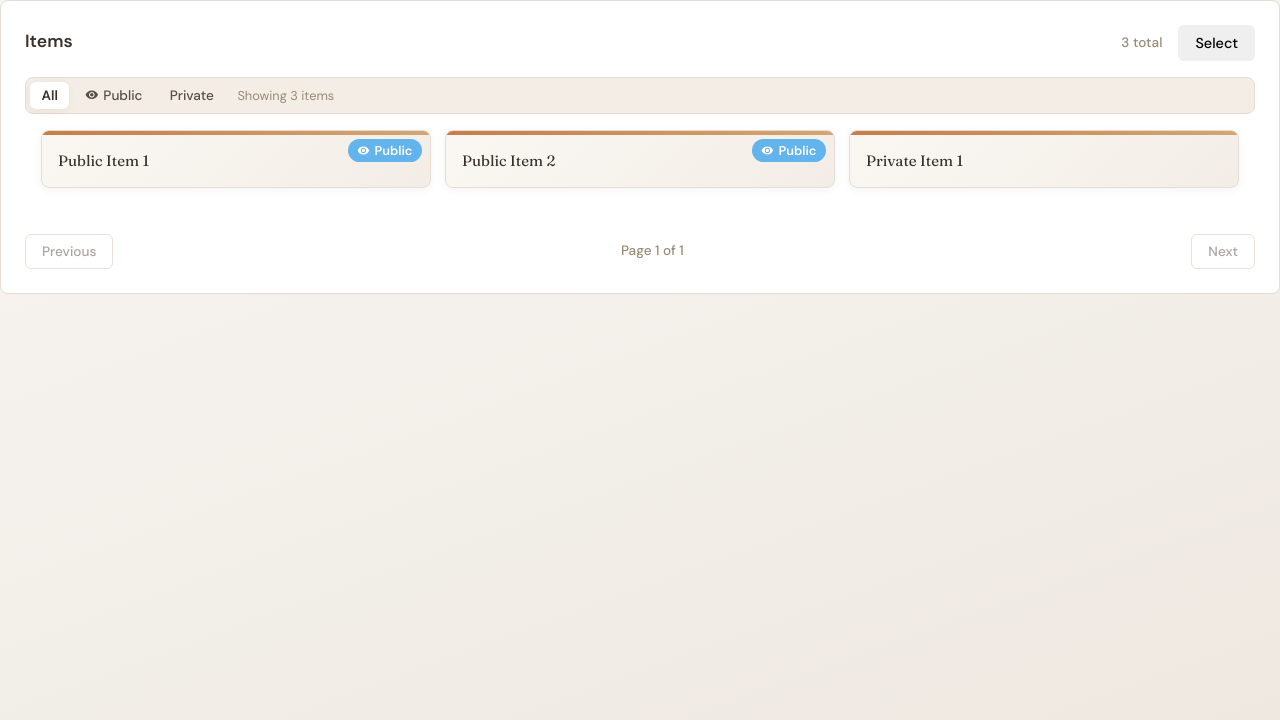
Test: ItemList › visibility filter › should filter to public items only when Public is selected
// Target the filter button specifically within the filter bar
Click the button with class "filter-btn" in the row of "Showing" at {"x": 114, "y": 95}, box [74,82,154,108]
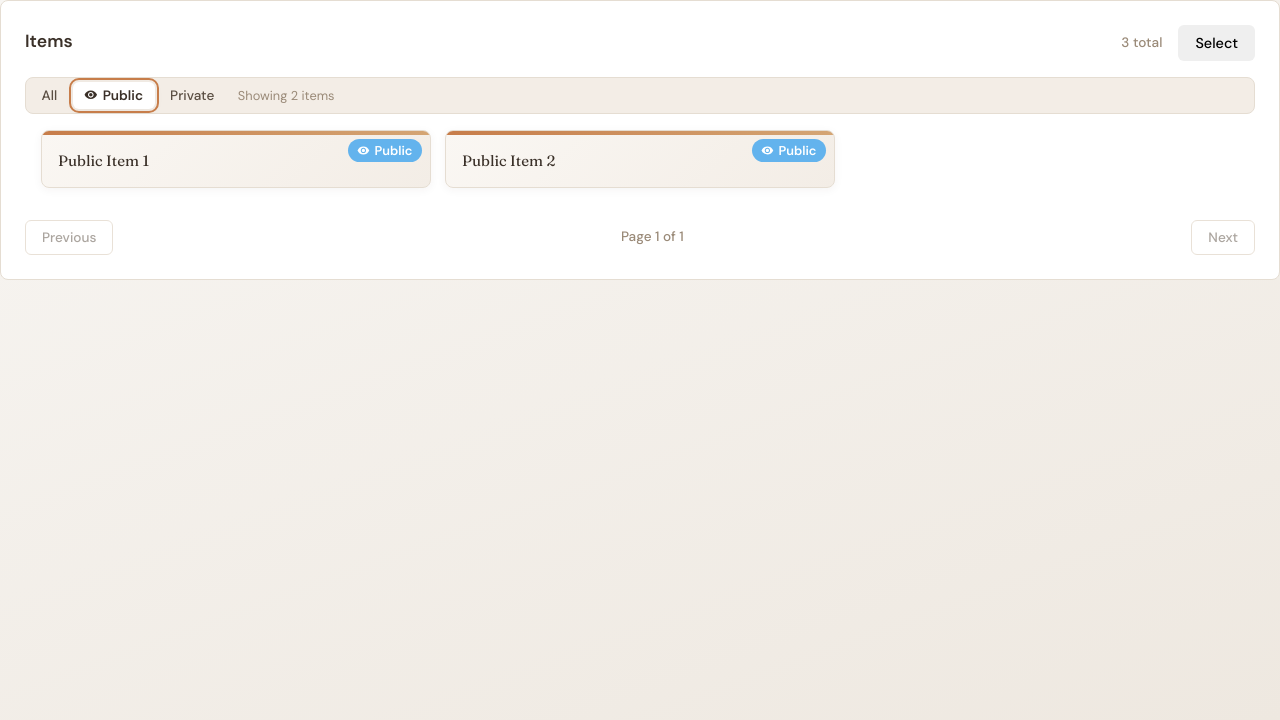
Expected: the button "Public Item 1" is shown, [58,150,149,170]
Result: the button "Private Item 1" is gone
